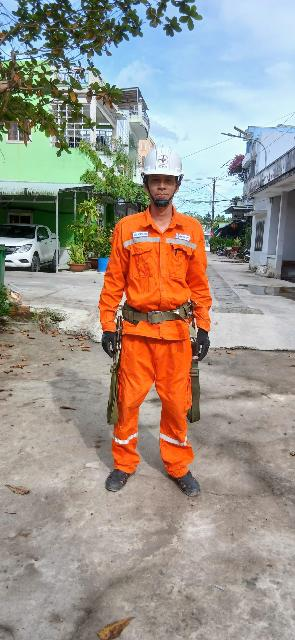gloves: (189, 321, 218, 359), (95, 329, 123, 367)
harness: (113, 292, 208, 332)
helmet: (133, 148, 190, 182)
shoes: (103, 463, 142, 501), (171, 467, 209, 500)
